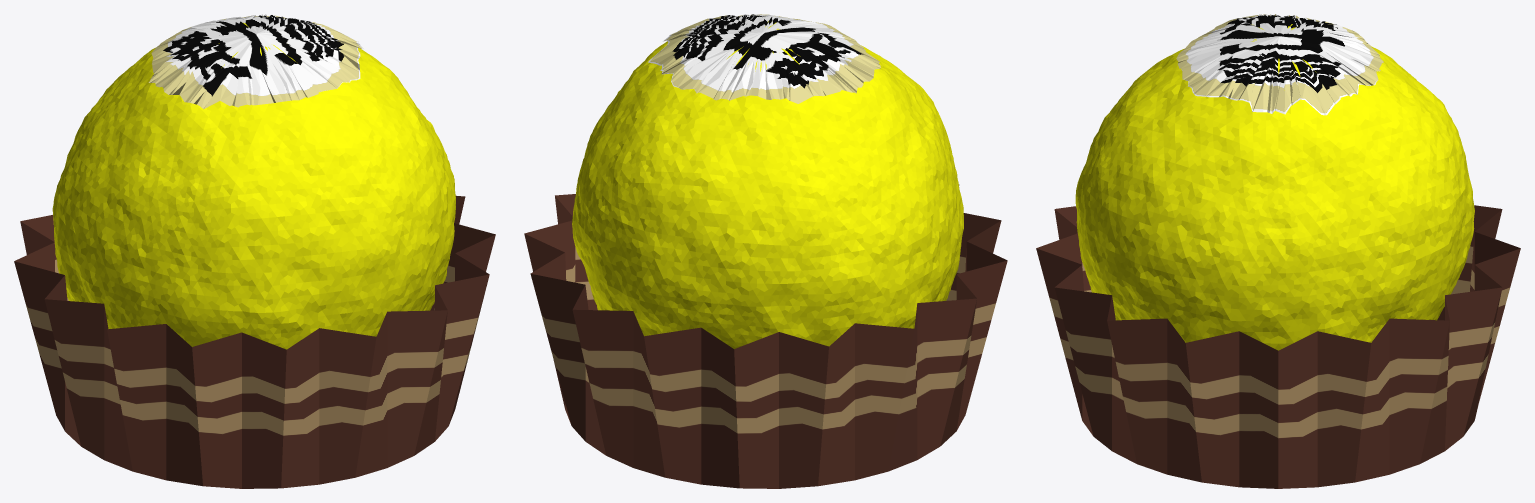
The model's file is 巧克力.fbx.
3 views of the same model, side by side, from view 1: azimuth 30°, elevation 25°; view 2: azimuth 150°, elevation 25°; view 3: azimuth 270°, elevation 25° (orthographic).
Parts seen in each view (by area): view 1: Icosphere, Cylinder, Circle; view 2: Icosphere, Cylinder, Circle; view 3: Icosphere, Cylinder, Circle.
Boxes of the visible parts, bbox=[...] form: Icosphere: bbox=[52, 22, 455, 349]; Cylinder: bbox=[14, 195, 495, 488]; Circle: bbox=[148, 14, 364, 109]; Icosphere: bbox=[572, 21, 963, 348]; Cylinder: bbox=[524, 184, 1007, 488]; Circle: bbox=[648, 14, 880, 103]; Icosphere: bbox=[1075, 24, 1474, 350]; Cylinder: bbox=[1036, 205, 1520, 488]; Circle: bbox=[1176, 14, 1383, 115].
Size of the model in its own units: 343 by 288 by 343.
